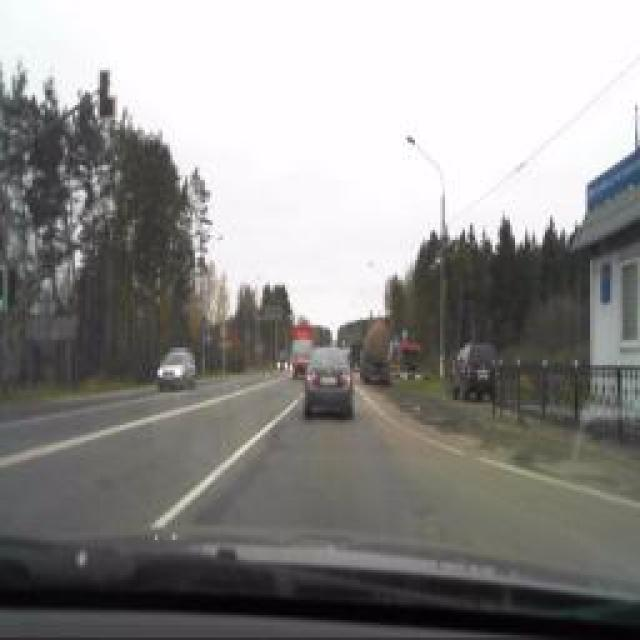sign: (392, 335, 402, 353), (204, 329, 214, 346)
